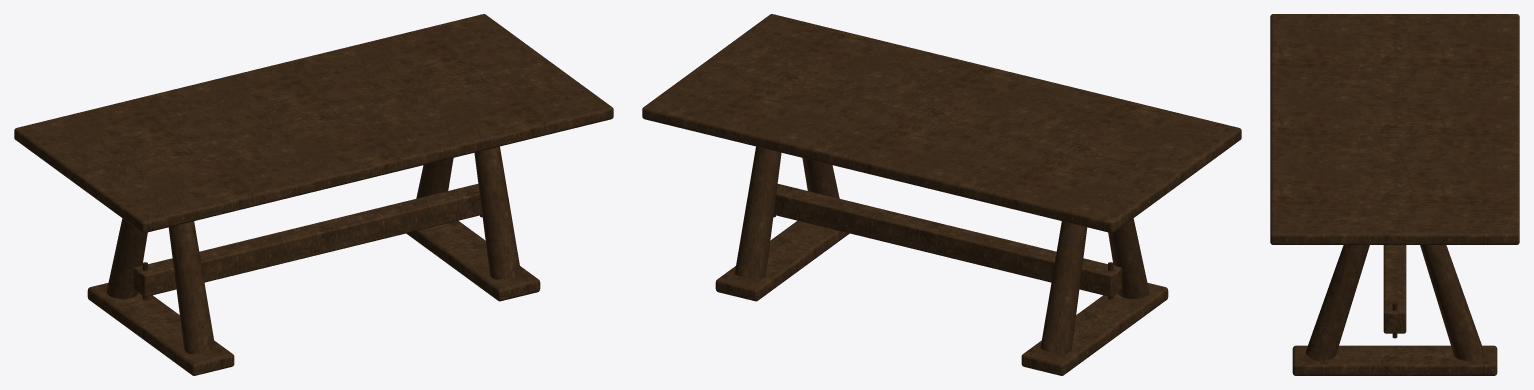
The model's file is dining-trestle-table.glb.
3 renders of one model, left to right at view 1: azimuth 30°, elevation 25°; view 2: azimuth 150°, elevation 25°; view 3: azimuth 270°, elevation 25°, orthographic. The views are drawn at different scales.
Visible parts, largest first — view 1: oak_surfaces; view 2: oak_surfaces; view 3: oak_surfaces.
Part boxes in pixels (x1,y1,x2,y2): oak_surfaces: (14,14,613,375); oak_surfaces: (642,14,1241,375); oak_surfaces: (1270,14,1519,375).
Bounding box in the file's own units: 2.1 × 0.7594 × 0.9999.
Materials: 2 (2 with a texture image).
